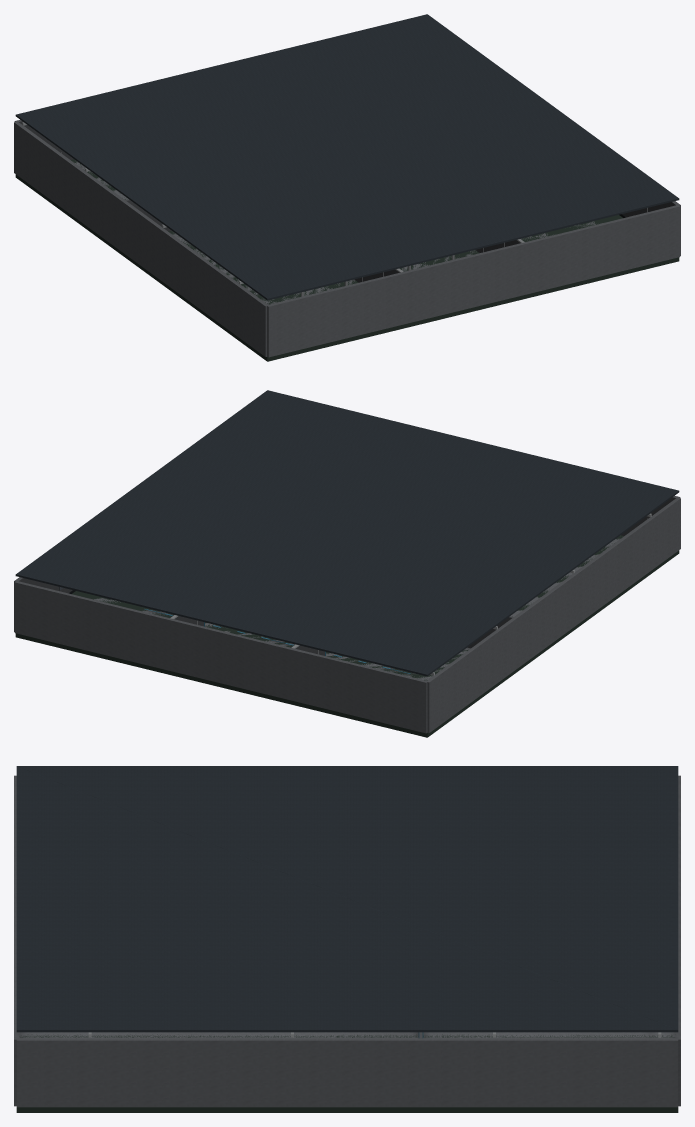
File: qualification.glb
3 renders of one model, top to bottom at view 1: azimuth 30°, elevation 25°; view 2: azimuth 150°, elevation 25°; view 3: azimuth 270°, elevation 25°, orthographic. The views are drawn at different scales.
Visible parts, largest first — view 1: Training house ceiling, outer_wall.003, outer_wall, COL_floor, Training house concrete slab; view 2: Training house ceiling, outer_wall.002, outer_wall, COL_floor, Training house concrete slab; view 3: Training house ceiling, outer_wall.001, COL_floor, Training house concrete slab, outer_wall.003, outer_wall.002.
Part boxes in pixels (x1,y1,x2,y2): Training house ceiling: (15, 14, 679, 300); outer_wall.003: (267, 205, 680, 357); outer_wall: (14, 121, 268, 356); COL_floor: (15, 159, 679, 361); Training house concrete slab: (75, 161, 602, 304); Training house ceiling: (15, 390, 679, 676); outer_wall.002: (14, 581, 427, 733); outer_wall: (426, 497, 680, 732); COL_floor: (15, 535, 679, 737); Training house concrete slab: (94, 538, 619, 680); Training house ceiling: (16, 766, 678, 1032); outer_wall.001: (16, 1038, 678, 1107); COL_floor: (16, 1034, 678, 1112); Training house concrete slab: (19, 1032, 675, 1038); outer_wall.003: (14, 775, 19, 1106); outer_wall.002: (675, 775, 680, 1106).
Size of the model in its own units: 34.3 by 4.97 by 36.3.
11 materials, 5 textured.
